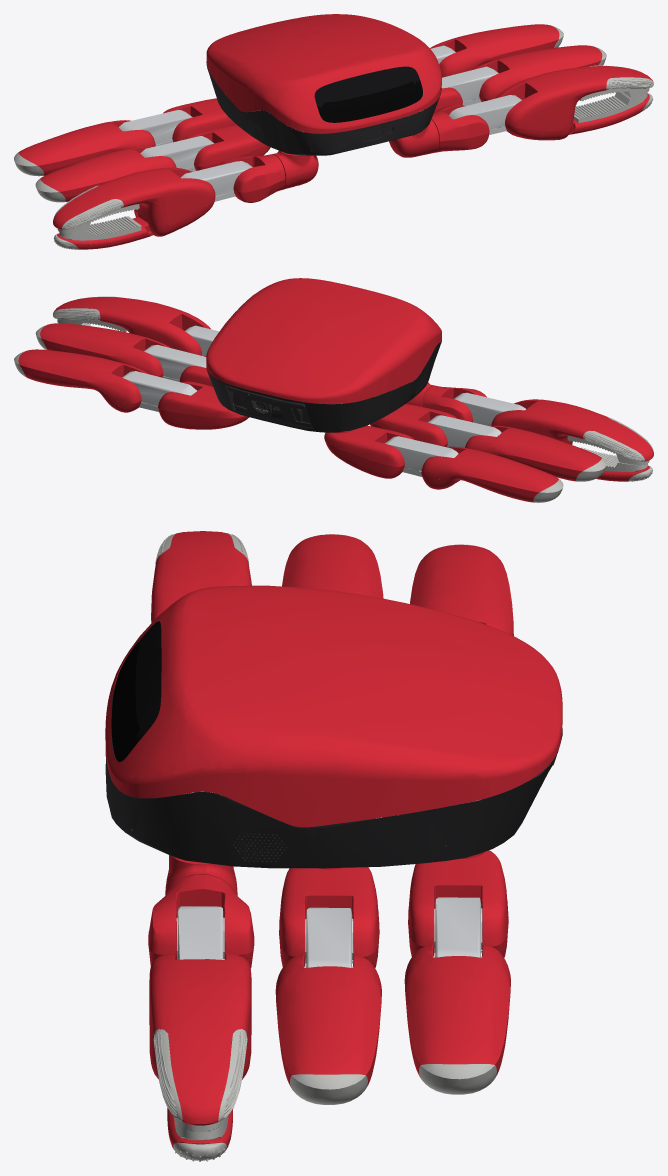
Rendered from jumper.glb.
3 views of the same model, one above another, from view 1: azimuth 30°, elevation 25°; view 2: azimuth 150°, elevation 25°; view 3: azimuth 270°, elevation 25° (orthographic). The views are drawn at different scales.
Visible parts, largest first — view 1: upper_shell_link_mesh, RF_palm_link_mesh, LF_palm_link_mesh, base_link_mesh, RR_calf_link_mesh, LR_calf_link_mesh, LM_calf_link_mesh, RM_calf_link_mesh, face_screen, display_module_link_mesh, RM_hip_link_mesh, RF_upper_arm_link_mesh (+20 smaller); view 2: upper_shell_link_mesh, base_link_mesh, LR_calf_link_mesh, RR_calf_link_mesh, RF_palm_link_mesh, LF_palm_link_mesh, RM_calf_link_mesh, LM_calf_link_mesh, RR_hip_link_mesh, LR_hip_link_mesh, RM_hip_link_mesh, LR_thigh_link_mesh (+14 smaller); view 3: upper_shell_link_mesh, base_link_mesh, LF_palm_link_mesh, LM_calf_link_mesh, LR_calf_link_mesh, RR_calf_link_mesh, LM_hip_link_mesh, LR_hip_link_mesh, RF_palm_link_mesh, LF_upper_arm_link_mesh, RM_calf_link_mesh, LR_thigh_link_mesh (+9 smaller).
Part boxes in pixels (<box>): upper_shell_link_mesh: <box>206,14,441,133</box>; RF_palm_link_mesh: <box>53,167,215,236</box>; LF_palm_link_mesh: <box>495,66,653,140</box>; base_link_mesh: <box>206,62,441,155</box>; RR_calf_link_mesh: <box>18,120,155,175</box>; LR_calf_link_mesh: <box>430,24,559,77</box>; LM_calf_link_mesh: <box>471,45,602,101</box>; RM_calf_link_mesh: <box>40,146,176,201</box>; face_screen: <box>317,79,422,122</box>; display_module_link_mesh: <box>314,66,419,107</box>; RM_hip_link_mesh: <box>184,110,270,170</box>; RF_upper_arm_link_mesh: <box>220,154,285,202</box>; upper_shell_link_mesh: <box>206,278,441,404</box>; base_link_mesh: <box>206,341,441,432</box>; LR_calf_link_mesh: <box>18,349,149,412</box>; RR_calf_link_mesh: <box>421,446,558,502</box>; RF_palm_link_mesh: <box>491,399,653,461</box>; LF_palm_link_mesh: <box>53,297,210,355</box>; RM_calf_link_mesh: <box>465,425,601,481</box>; LM_calf_link_mesh: <box>40,323,170,377</box>; RR_hip_link_mesh: <box>324,403,414,478</box>; LR_hip_link_mesh: <box>158,381,249,429</box>; RM_hip_link_mesh: <box>370,395,457,446</box>; LR_thigh_link_mesh: <box>122,371,196,411</box>; upper_shell_link_mesh: <box>105,585,562,827</box>; base_link_mesh: <box>105,687,562,868</box>; LF_palm_link_mesh: <box>149,953,251,1125</box>; LM_calf_link_mesh: <box>275,955,381,1089</box>; LR_calf_link_mesh: <box>404,944,510,1079</box>; RR_calf_link_mesh: <box>410,544,513,635</box>; LM_hip_link_mesh: <box>279,825,379,968</box>; LR_hip_link_mesh: <box>408,799,508,957</box>; RF_palm_link_mesh: <box>151,531,251,622</box>; LF_upper_arm_link_mesh: <box>148,874,254,968</box>; RM_calf_link_mesh: <box>282,534,383,598</box>; LR_thigh_link_mesh: <box>434,897,482,957</box>.
Size of the model in its own units: 0.6186 by 0.1231 by 0.2056.
